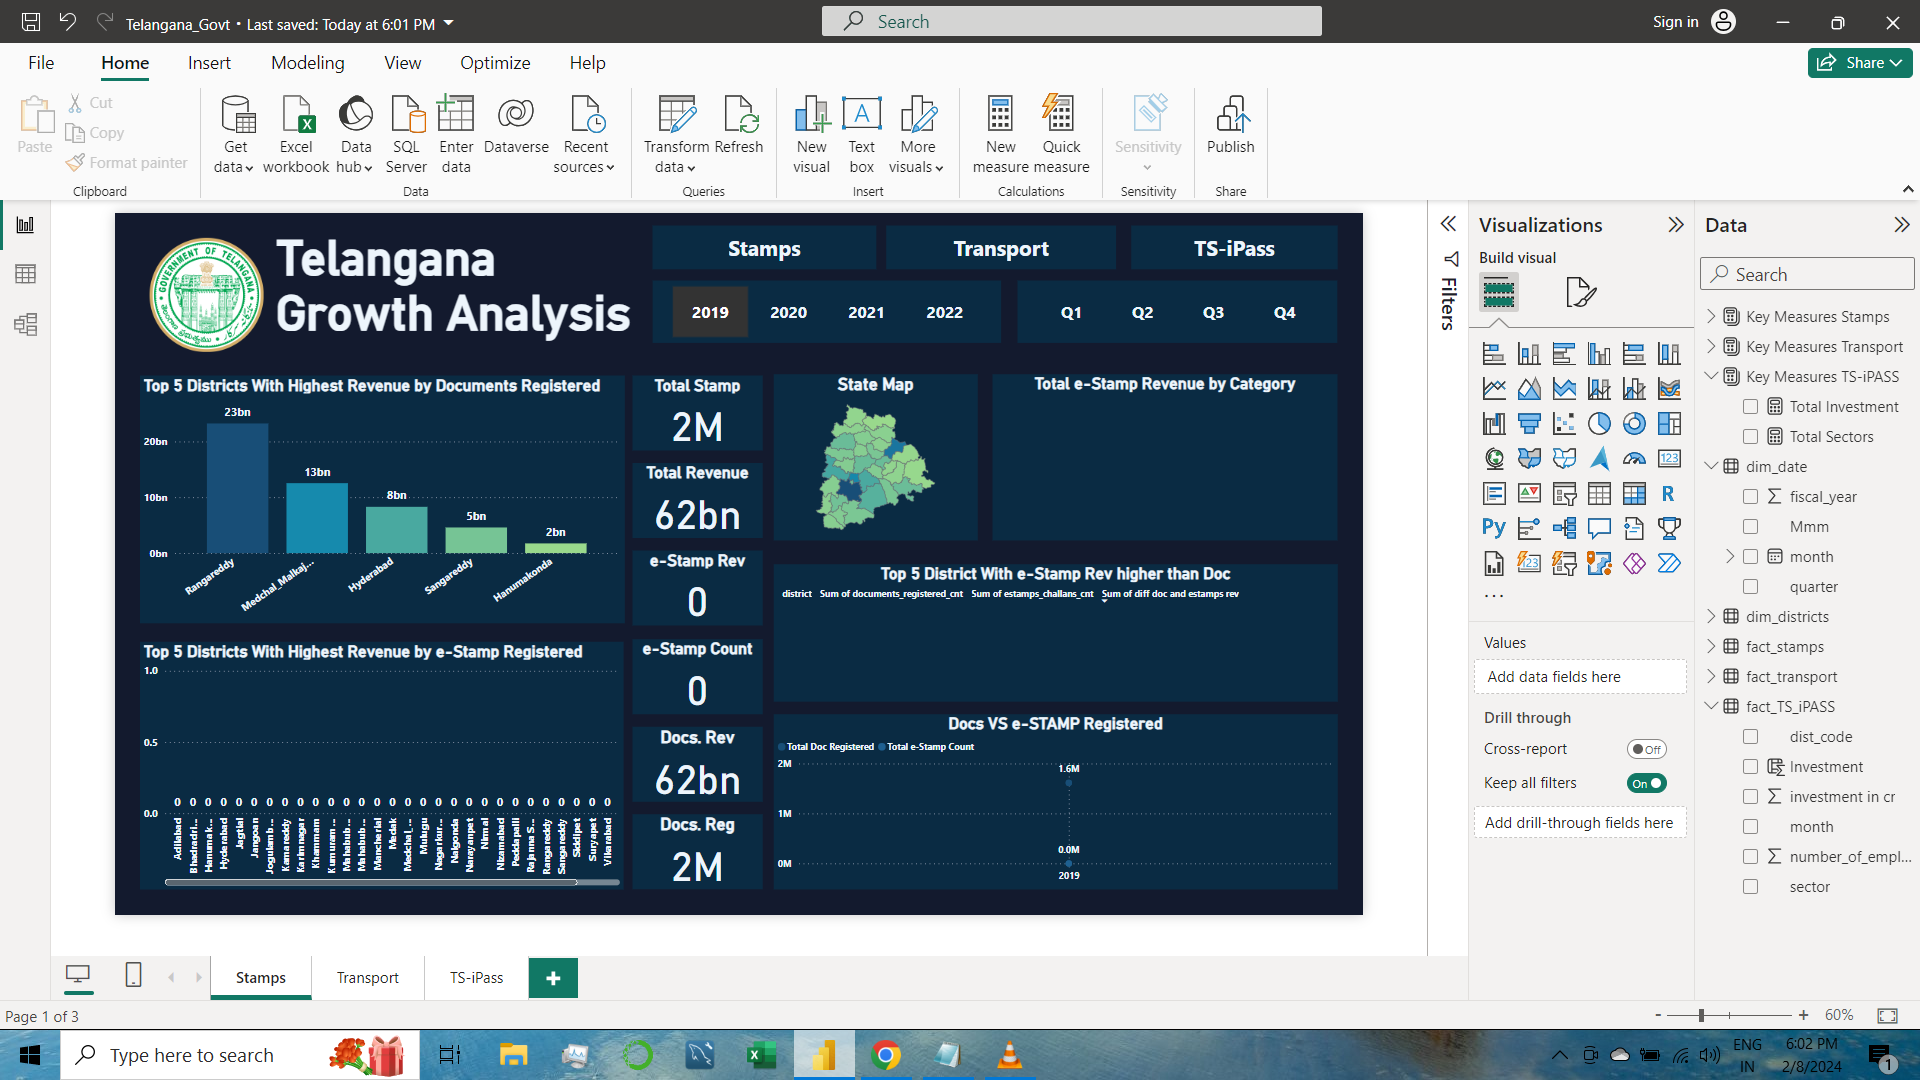

The page's visual inventory and layout, read from the dashboard file:
{"tool":"powerbi","page":{"name":"Stamps","canvas":[1664,936],"ordinal":0},"visuals":[{"type":"slicer","fields":{"Values":["dim_date.fiscal_year"]},"box":[716.7,90,465,83.3],"z":0},{"type":"slicer","fields":{"Values":["dim_date.quarter"]},"box":[1203.3,90,426.7,83.3],"z":1000},{"type":"clusteredColumnChart","title":"Top 5 Districts With Highest Revenue by Documents Registered","fields":{"Y":["Key Measures.Total Docs Reg Revenue"],"Category":["dim_districts.district"]},"box":[34,216,646,330],"z":2000},{"type":"clusteredColumnChart","title":"Top 5 Districts With Highest Revenue by e-Stamp Registered","fields":{"Y":["Key Measures.Total e-Stamp Revenue"],"Category":["dim_districts.district"]},"box":[33.3,571.7,645,330],"z":3000},{"type":"lineChart","title":"Docs VS e-STAMP Registered","fields":{"Y":["Key Measures.Total Doc Registered","Key Measures.Total e-Stamp Count"],"Category":["dim_date.fiscal_year"]},"box":[878.3,668.3,751.7,233.3],"z":4000},{"type":"tableEx","title":"Top 5 District With e-Stamp Rev higher than Doc","fields":{"Values":["dim_districts.district","Sum(fact_stamps.documents_registered_cnt)","Sum(fact_stamps.estamps_challans_cnt)","Sum(fact_stamps.diff doc and estamps rev)"]},"box":[878.3,468.3,751.7,183.3],"z":5000},{"type":"pieChart","fields":{"Y":["Key Measures.Total e-Stamp Revenue"],"Category":["fact_stamps.Category"]},"box":[1170,215,460,221.7],"z":6000},{"type":"card","title":"Docs. Reg","fields":{"Values":["Key Measures.Total Doc Registered"]},"box":[690,801.7,173.3,100],"z":7000},{"type":"card","title":"Docs. Rev","fields":{"Values":["Key Measures.Total Docs Reg Revenue"]},"box":[690,684.7,173.3,100],"z":8000},{"type":"card","title":"e-Stamp Count","fields":{"Values":["Key Measures.Total e-Stamp Count"]},"box":[690,567.7,173.3,100],"z":9000},{"type":"card","title":"e-Stamp Rev","fields":{"Values":["Key Measures.Total e-Stamp Revenue"]},"box":[690,450.7,173.3,100],"z":10000},{"type":"shapeMap","title":"State Map","fields":{"Category":["dim_districts.district"],"Value":["Key Measures Stamps.Total Doc Registered"]},"box":[878.3,215,271.7,221.7],"z":11000},{"type":"card","title":"Total Revenue","fields":{"Values":["Key Measures.Total Revenue"]},"box":[690,333.7,173.3,100],"z":12000},{"type":"card","title":"Total Stamp","fields":{"Values":["Key Measures.Total Stamps"]},"box":[690,216.7,173.3,100],"z":13000},{"type":"image","box":[33.3,28.3,176.7,161.7],"z":14000},{"type":"textbox","box":[210,16.7,506.7,173.3],"z":15000},{"type":"actionButton","box":[716.7,16.7,298.3,58.3],"z":16000},{"type":"actionButton","box":[1355,16.7,275,58.3],"z":17000},{"type":"actionButton","box":[1028.3,16.7,306.7,58.3],"z":18000}]}

Visuals, with their boxes on the page's 1664x936 design canvas (x1, y1, x2, y2). These are canvas units, not pixel positions in the 1920x1080 screenshot, which may show the page scaled, cropped or inside an application window:
slicer - dim_date.fiscal_year: select_region(717, 90, 1182, 173)
slicer - dim_date.quarter: select_region(1203, 90, 1630, 173)
"Top 5 Districts With Highest Revenue by Documents Registered" clusteredColumnChart: select_region(34, 216, 680, 546)
"Top 5 Districts With Highest Revenue by e-Stamp Registered" clusteredColumnChart: select_region(33, 572, 678, 902)
"Docs VS e-STAMP Registered" lineChart: select_region(878, 668, 1630, 902)
"Top 5 District With e-Stamp Rev higher than Doc" tableEx: select_region(878, 468, 1630, 652)
pieChart - Key Measures.Total e-Stamp Revenue x fact_stamps.Category: select_region(1170, 215, 1630, 437)
"Docs. Reg" card: select_region(690, 802, 863, 902)
"Docs. Rev" card: select_region(690, 685, 863, 785)
"e-Stamp Count" card: select_region(690, 568, 863, 668)
"e-Stamp Rev" card: select_region(690, 451, 863, 551)
"State Map" shapeMap: select_region(878, 215, 1150, 437)
"Total Revenue" card: select_region(690, 334, 863, 434)
"Total Stamp" card: select_region(690, 217, 863, 317)
image: select_region(33, 28, 210, 190)
textbox: select_region(210, 17, 717, 190)
actionButton: select_region(717, 17, 1015, 75)
actionButton: select_region(1355, 17, 1630, 75)
actionButton: select_region(1028, 17, 1335, 75)
